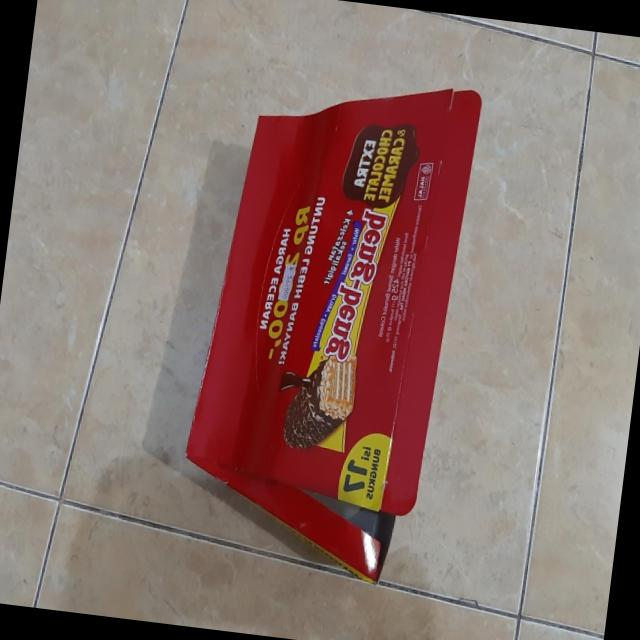Kardus: (172, 58, 484, 588), (272, 344, 360, 455)
